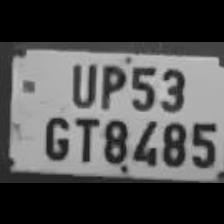3: (156, 63, 186, 109)
4: (130, 113, 158, 166)
5: (126, 60, 158, 108), (188, 116, 218, 166)
8: (98, 113, 128, 166), (158, 116, 186, 166)
G: (40, 111, 72, 160)
P: (94, 58, 125, 108)
T: (71, 110, 99, 162)
U: (64, 56, 96, 107)
